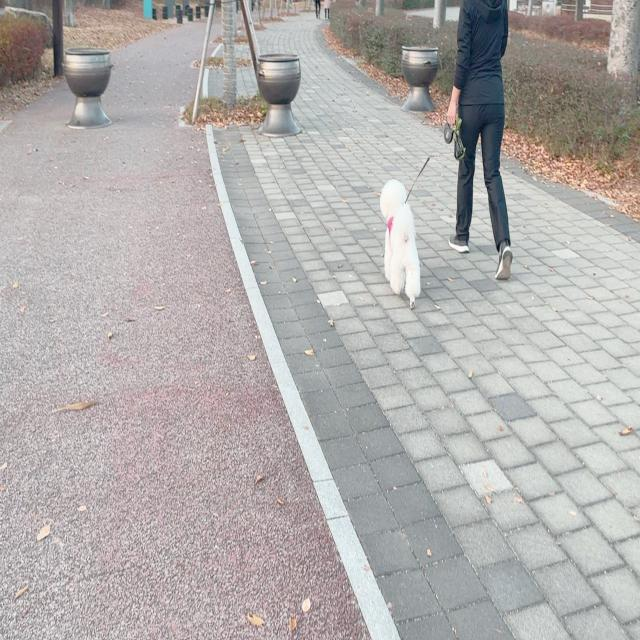Leashed_Dog: (379, 98, 473, 309)
